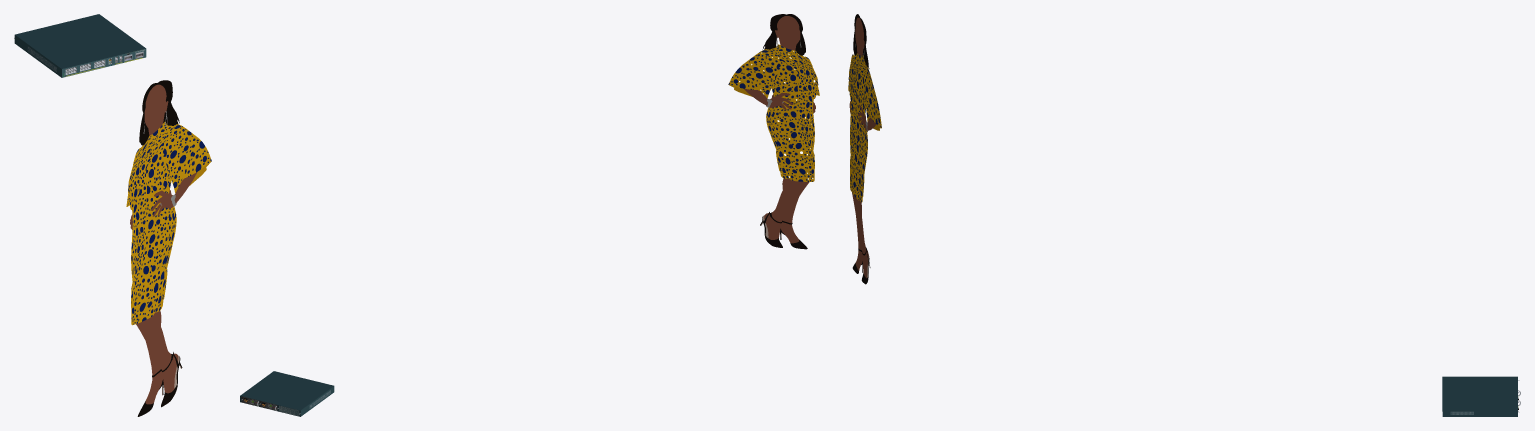
File: Ciscome4924.glb
The picture shows the model from 3 angles, left to right: view 1: azimuth 30°, elevation 25°; view 2: azimuth 150°, elevation 25°; view 3: azimuth 270°, elevation 25°; orthographic projection. The views are drawn at different scales.
Visible parts, largest first — view 1: Sumele, Cisco Catalyst ME-4924 Switch; view 2: Sumele, Cisco Catalyst ME-4924 Switch; view 3: Sumele, Cisco Catalyst ME-4924 Switch.
Part boxes in pixels (x1,y1,x2,y2): Sumele: [126, 80, 211, 416]; Cisco Catalyst ME-4924 Switch: [14, 14, 146, 77]; Sumele: [728, 14, 819, 249]; Cisco Catalyst ME-4924 Switch: [240, 371, 334, 416]; Sumele: [848, 14, 881, 284]; Cisco Catalyst ME-4924 Switch: [1442, 376, 1520, 416].
Bounding box in the file's own units: 2.06 × 1.65 × 3.83.
Materials: 44 (12 with a texture image).
